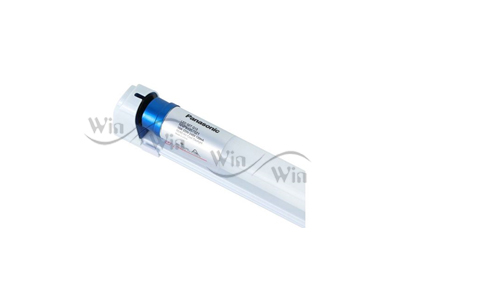Light_bulb: (138, 94, 312, 215)
